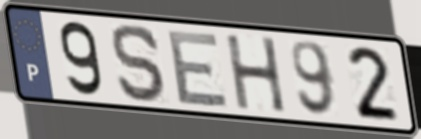2: (345, 44, 403, 125)
9: (290, 39, 340, 118), (57, 20, 105, 98)
E: (166, 29, 232, 109)
H: (222, 33, 289, 115)
S: (110, 22, 171, 105)
